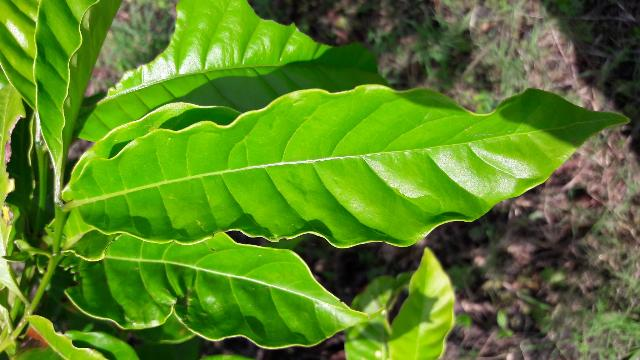healthy: (68, 90, 628, 246)
